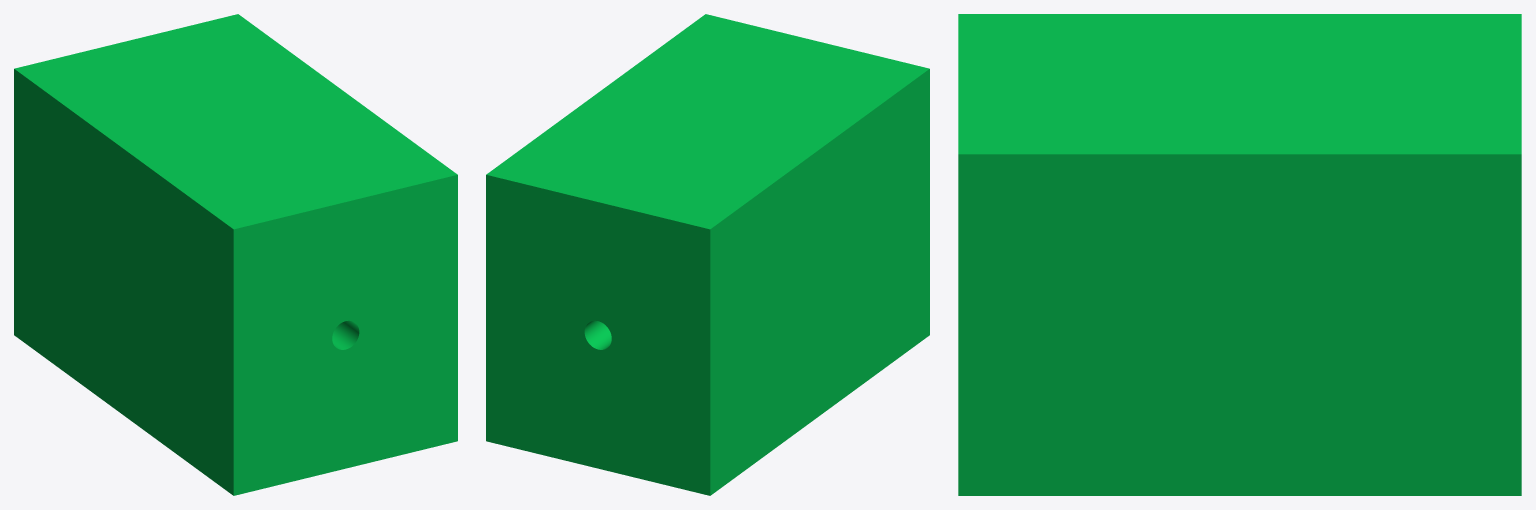
Rendered from auto_endeffector.DAE.
3 views of the same model, side by side, from view 1: azimuth 30°, elevation 25°; view 2: azimuth 150°, elevation 25°; view 3: azimuth 270°, elevation 25° (orthographic). The views are drawn at different scales.
Parts seen in each view (by area): view 1: auto_endeffector; view 2: auto_endeffector; view 3: auto_endeffector.
Boxes of the visible parts, left/top/right/bottom form: auto_endeffector: left=14, top=14, right=457, bottom=495; auto_endeffector: left=486, top=14, right=929, bottom=495; auto_endeffector: left=958, top=14, right=1521, bottom=495.
Bounding box in the file's own units: 2.58 × 2.93 × 4.38.
